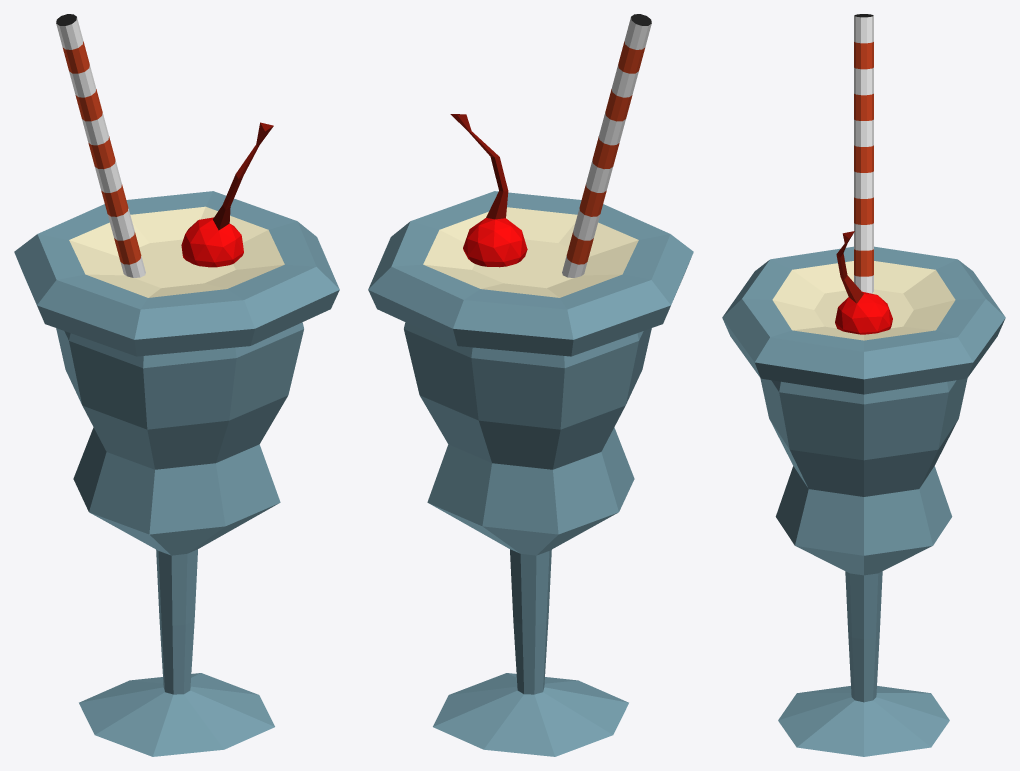
File: Milkshake Cherry.fbx
The picture shows the model from 3 angles, left to right: view 1: azimuth 30°, elevation 25°; view 2: azimuth 150°, elevation 25°; view 3: azimuth 270°, elevation 25°; orthographic projection. The views are drawn at different scales.
Parts seen in each view (by area): view 1: Milkshake Cherry; view 2: Milkshake Cherry; view 3: Milkshake Cherry.
Boxes of the visible parts, left/top/right/bottom form: Milkshake Cherry: left=14, top=14, right=339, bottom=756; Milkshake Cherry: left=368, top=14, right=693, bottom=756; Milkshake Cherry: left=722, top=14, right=1005, bottom=756.
Size of the model in its own units: 16.06 by 39.66 by 15.49.
